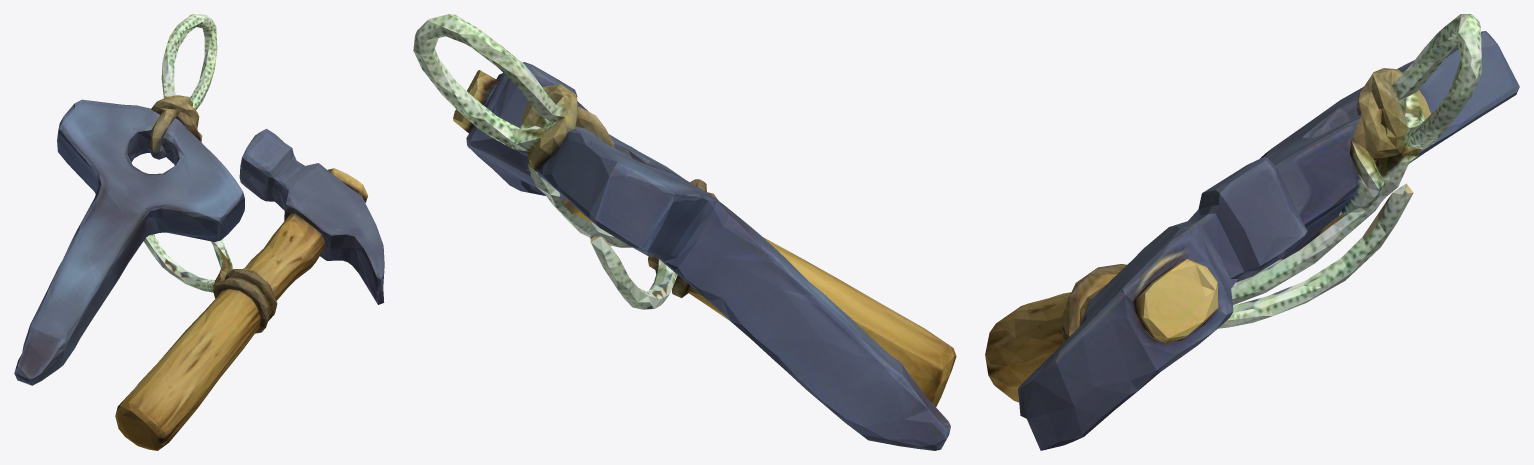
The model's file is piton.glb.
3 renders of one model, left to right at view 1: azimuth 30°, elevation 25°; view 2: azimuth 150°, elevation 25°; view 3: azimuth 270°, elevation 25°, orthographic. The views are drawn at different scales.
Parts seen in each view (by area): view 1: tmpw79ya6pc.ply; view 2: tmpw79ya6pc.ply; view 3: tmpw79ya6pc.ply.
Boxes of the visible parts, box(x1,y1,x2,y2) form: tmpw79ya6pc.ply: box(14, 14, 384, 450); tmpw79ya6pc.ply: box(413, 14, 956, 450); tmpw79ya6pc.ply: box(985, 14, 1519, 450).
Size of the model in its own units: 2 by 1.77 by 1.61.
Materials: 1 (1 with a texture image).
